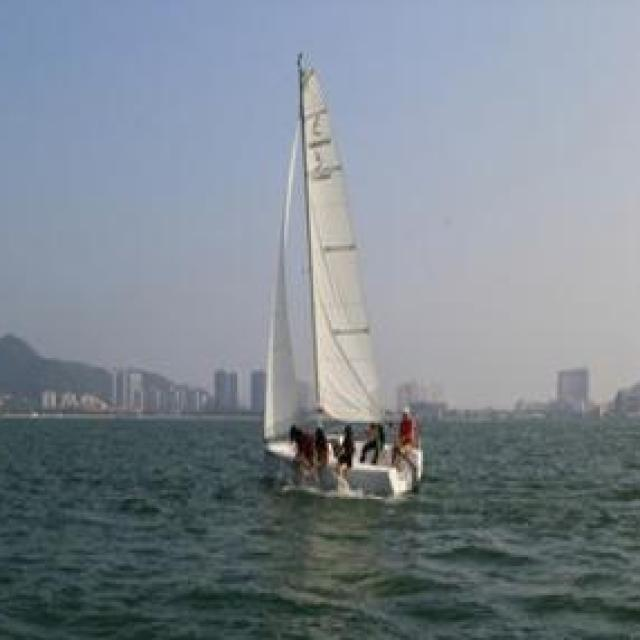sailboat: (258, 46, 434, 502)
